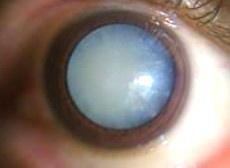eye: (43, 11, 189, 151)
